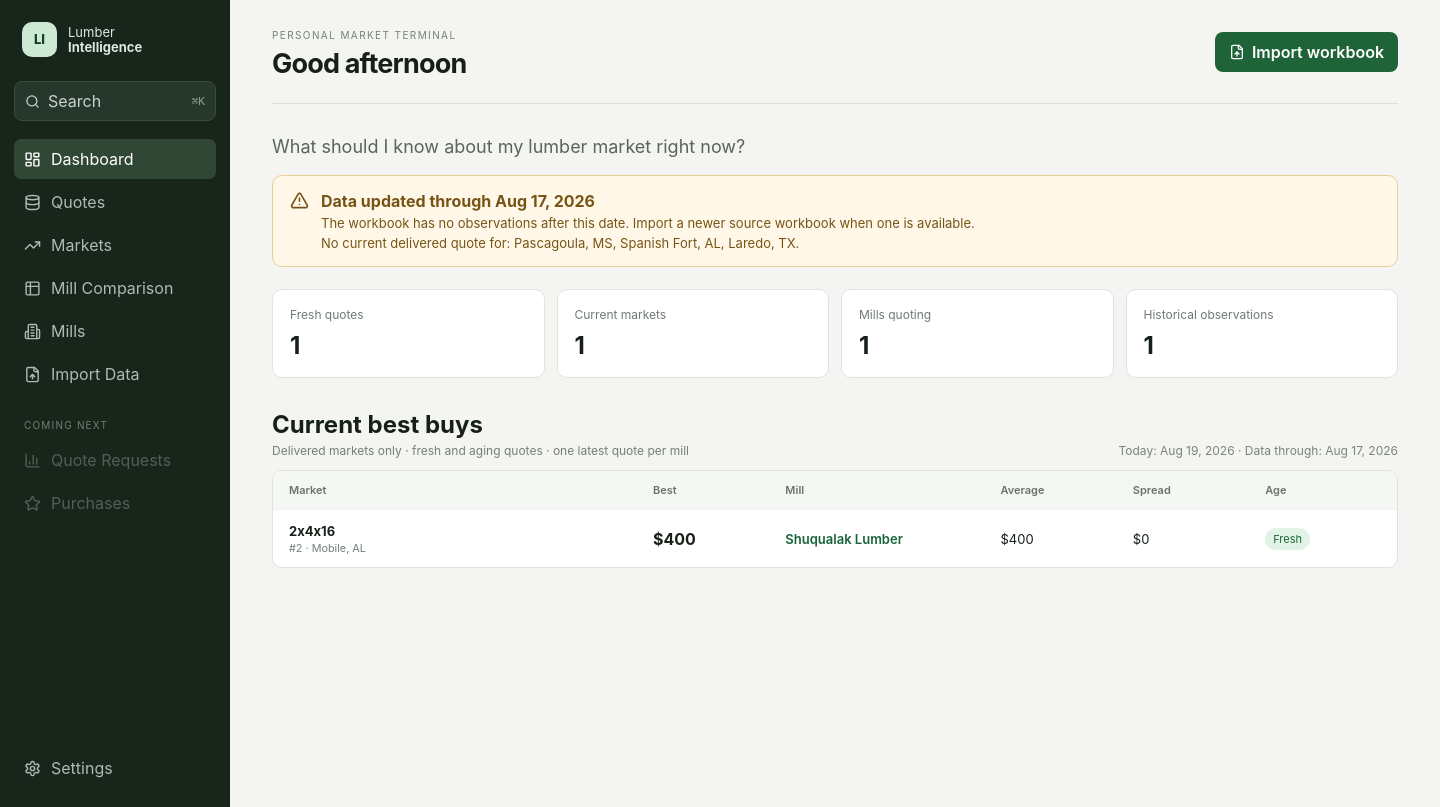
it: application interaction › opens a separate Mill Comparison screen and Settings
Click the button "Mill Comparison" at x=115, y=288, box [14,268,216,308]
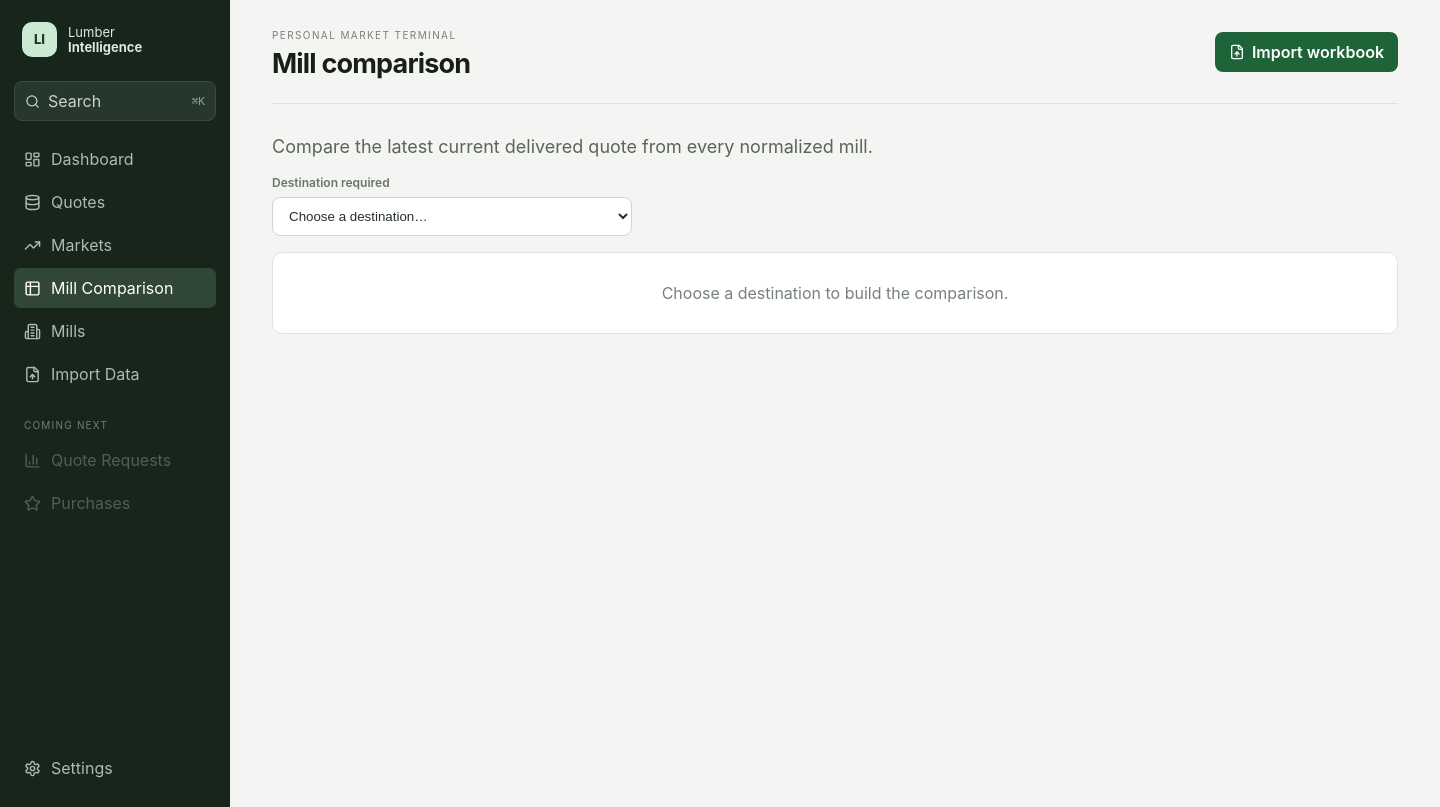
Check: the heading "Mill comparison" is shown, box [272,47,470,80]
Check: the dropdown named "Comparison destination" is shown, box [272,197,632,236]
Click the button "Settings" at x=115, y=768, box [14,748,216,788]
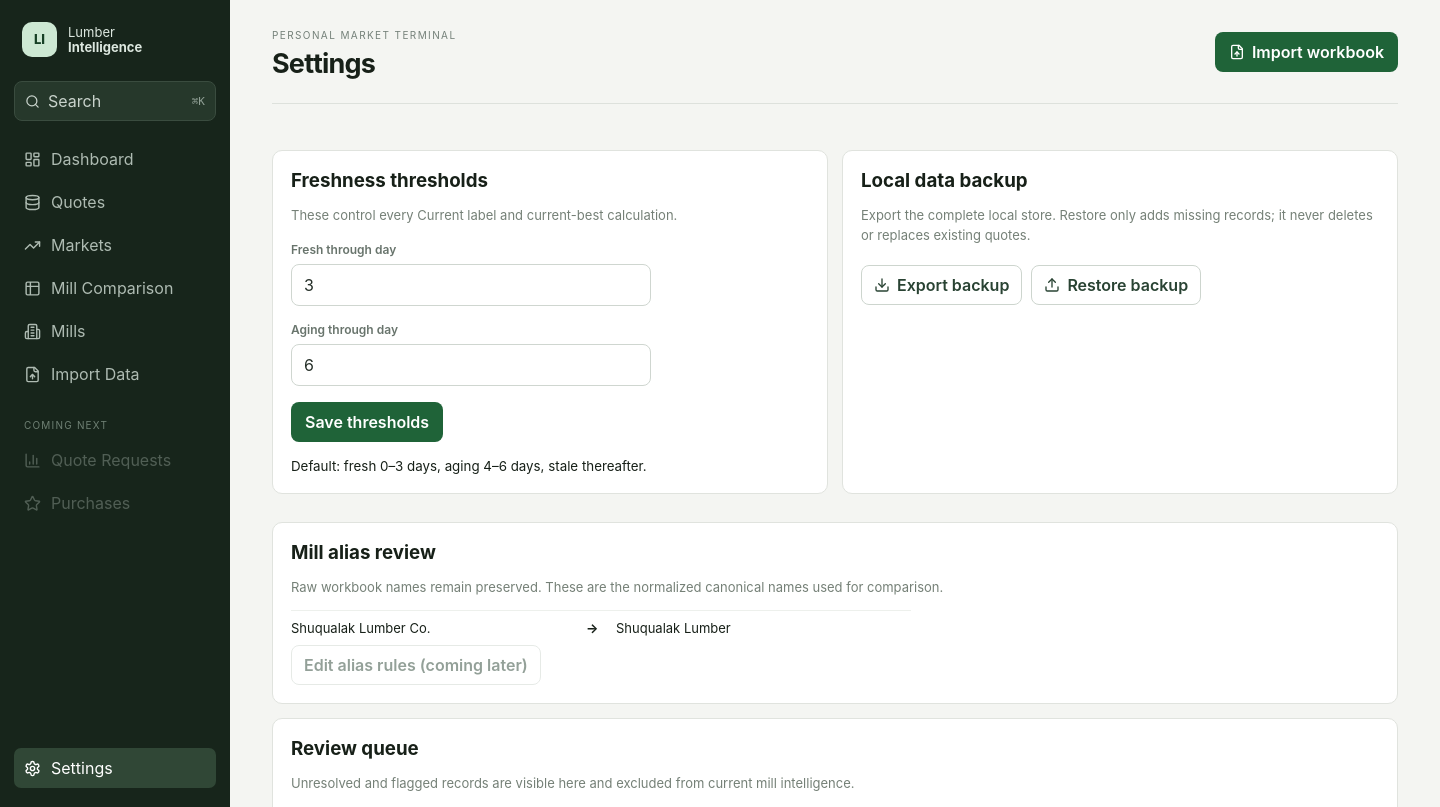
Check: the heading "Settings" is shown, box [272,47,375,80]
Check: the text "Freshness thresholds" is shown, box [291,169,488,192]
